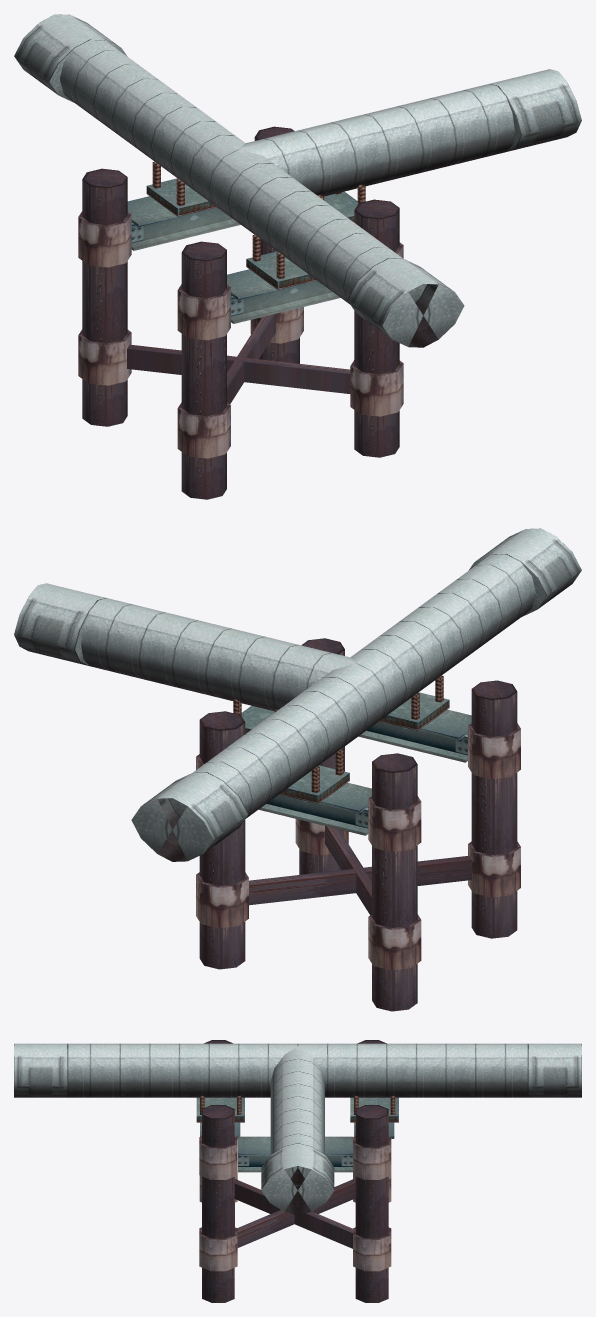
Rendered from pipes_tall_three_way.fbx.
The picture shows the model from 3 angles, top to bottom: view 1: azimuth 30°, elevation 25°; view 2: azimuth 150°, elevation 25°; view 3: azimuth 270°, elevation 25°; orthographic projection. The views are drawn at different scales.
Visible parts, largest first — view 1: mesh_1, mesh_2, mesh_0, mesh_49, mesh_43, mesh_46, mesh_48, mesh_50, mesh_42, mesh_47, mesh_44, mesh_51 (+8 smaller); view 2: mesh_1, mesh_0, mesh_2, mesh_49, mesh_43, mesh_42, mesh_44, mesh_51, mesh_48, mesh_45, mesh_46, mesh_50 (+9 smaller); view 3: mesh_0, mesh_2, mesh_1, mesh_45, mesh_47, mesh_44, mesh_46, mesh_51, mesh_50, mesh_4, mesh_31, mesh_18.
Part boxes in pixels (x1,y1,x2,y2): mesh_1: [239, 69, 581, 196]; mesh_2: [209, 149, 464, 347]; mesh_0: [14, 14, 245, 209]; mesh_49: [177, 241, 230, 416]; mesh_43: [78, 168, 131, 343]; mesh_46: [350, 360, 403, 457]; mesh_48: [177, 402, 230, 499]; mesh_50: [127, 344, 350, 393]; mesh_42: [78, 329, 131, 426]; mesh_47: [354, 199, 403, 374]; mesh_44: [250, 307, 303, 363]; mesh_51: [227, 314, 275, 403]; mesh_1: [14, 583, 356, 711]; mesh_0: [131, 663, 386, 861]; mesh_2: [350, 528, 581, 724]; mesh_49: [468, 680, 520, 854]; mesh_43: [368, 753, 421, 927]; mesh_42: [368, 914, 421, 1011]; mesh_44: [196, 872, 248, 969]; mesh_51: [249, 855, 471, 905]; mesh_48: [468, 841, 520, 938]; mesh_45: [196, 711, 245, 885]; mesh_46: [295, 819, 348, 874]; mesh_50: [325, 826, 371, 915]; mesh_0: [298, 1043, 581, 1097]; mesh_2: [14, 1043, 297, 1097]; mesh_1: [261, 1046, 334, 1214]; mesh_45: [353, 1105, 391, 1238]; mesh_47: [199, 1105, 237, 1238]; mesh_44: [353, 1227, 391, 1302]; mesh_46: [199, 1227, 237, 1302]; mesh_51: [234, 1179, 352, 1248]; mesh_50: [237, 1178, 355, 1247]; mesh_4: [238, 1136, 353, 1155]; mesh_31: [350, 1097, 398, 1122]; mesh_18: [196, 1097, 244, 1122].
Bounding box in the file's own units: 535 × 338 × 800.
1 material, 1 textured.
